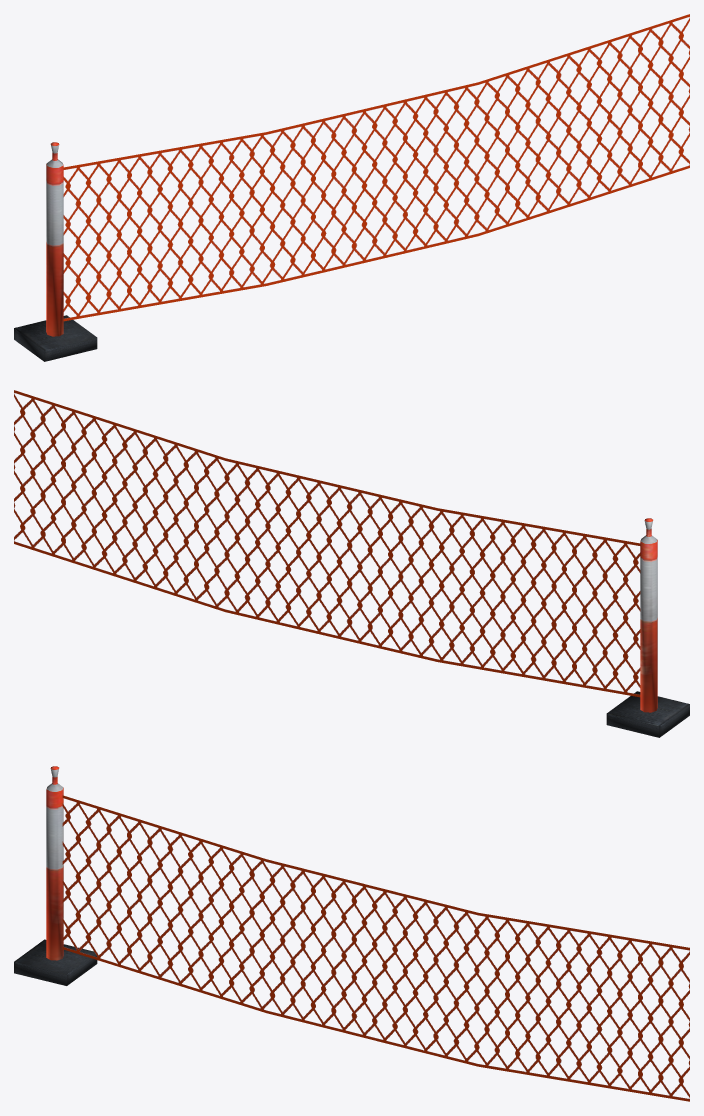
The model's file is orangeFence_sag.fbx.
The picture shows the model from 3 angles, top to bottom: view 1: azimuth 30°, elevation 25°; view 2: azimuth 150°, elevation 25°; view 3: azimuth 330°, elevation 25°; orthographic projection.
Visible parts, largest first — view 1: Plane01, Duplicate04, Cylinder02, Box03; view 2: Plane01, Duplicate04, Cylinder02, Box03; view 3: Plane01, Duplicate04, Cylinder02, Box03.
Part boxes in pixels (<box>): Plane01: <box>63,14,689,321</box>; Duplicate04: <box>63,15,689,316</box>; Cylinder02: <box>46,142,63,336</box>; Box03: <box>14,315,97,361</box>; Plane01: <box>14,390,640,697</box>; Duplicate04: <box>14,391,640,692</box>; Cylinder02: <box>640,518,657,712</box>; Box03: <box>606,691,689,737</box>; Plane01: <box>62,795,689,1101</box>; Duplicate04: <box>62,796,689,1100</box>; Cylinder02: <box>46,766,63,960</box>; Box03: <box>14,939,97,985</box>.
Bounding box in the file's own units: 375 × 109 × 30.
